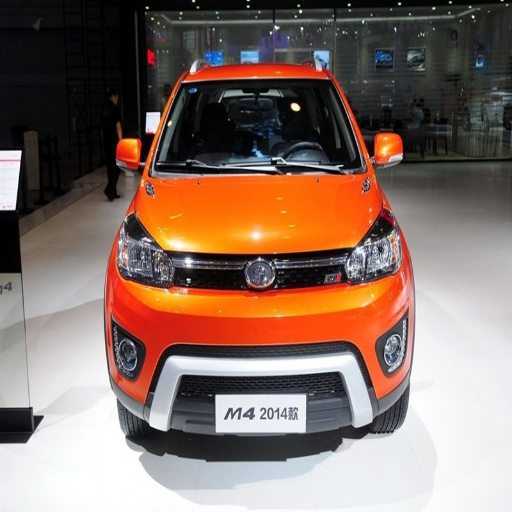front_bumper: (105, 247, 408, 462)
front_right_light: (114, 214, 178, 285)
hood: (134, 171, 382, 254)
